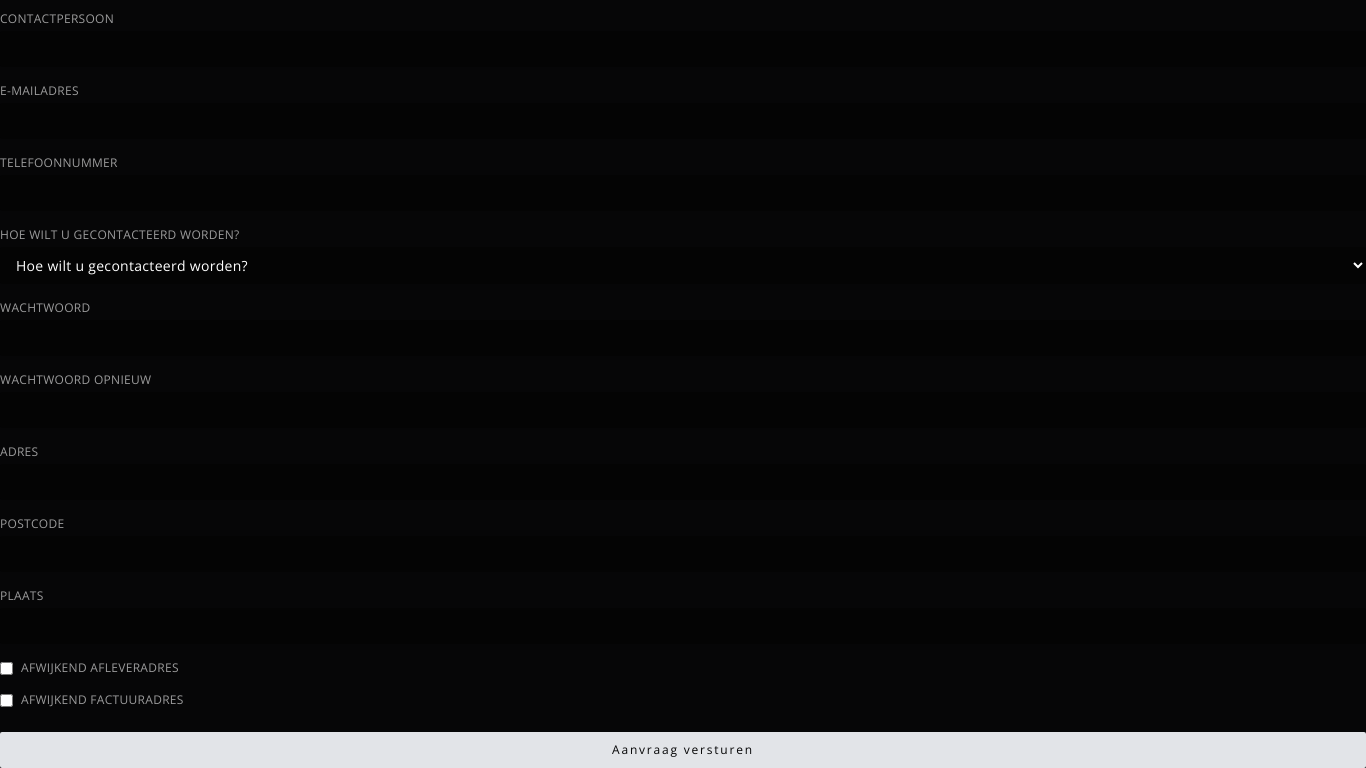
Test: RegistrationForm › shows the 3 delivery-address fields only when the "different delivery address" checkbox is checked
This screenshot has width=1366, height=768.
(page scrolled)
Click the checkbox with test id "word-klant-different-delivery" at (6, 668), box [0,662,13,674]
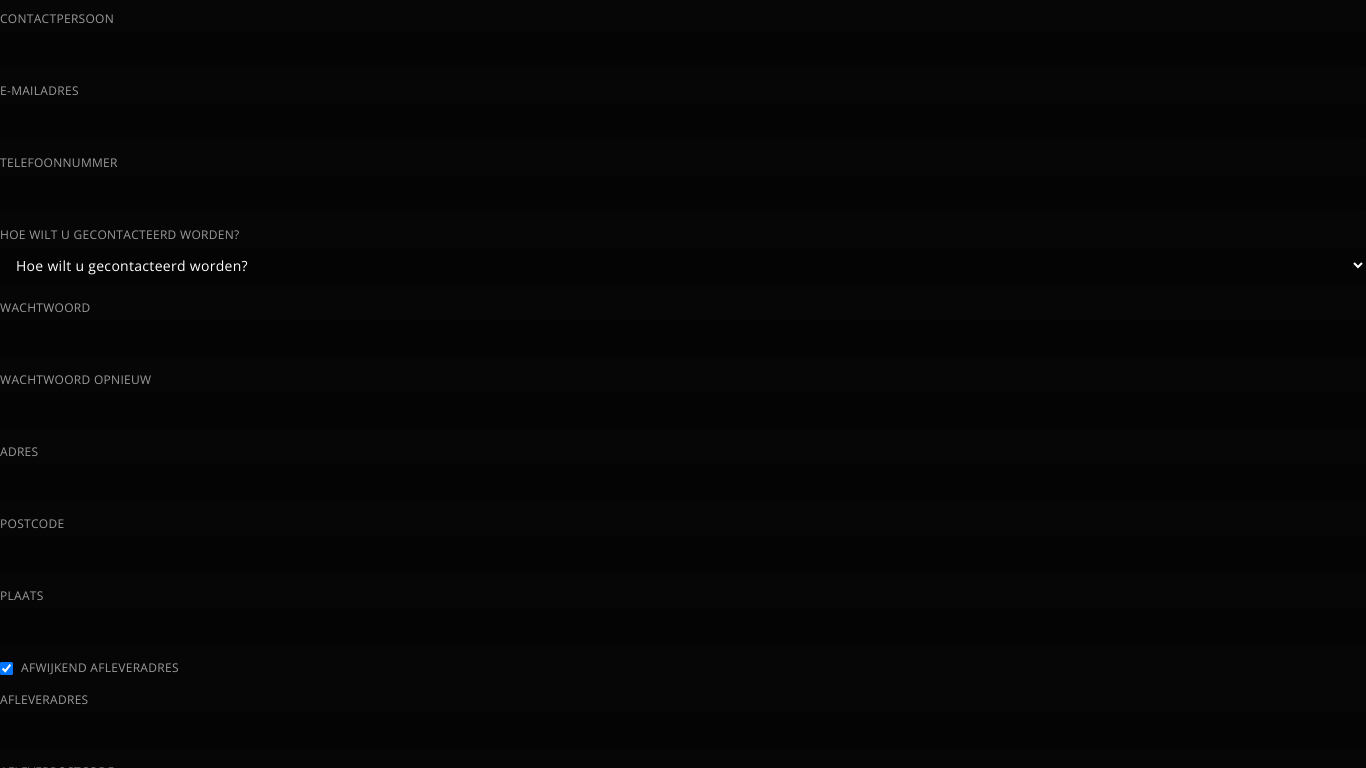
Click the checkbox with test id "word-klant-different-delivery" at (6, 668), box [0,662,13,674]
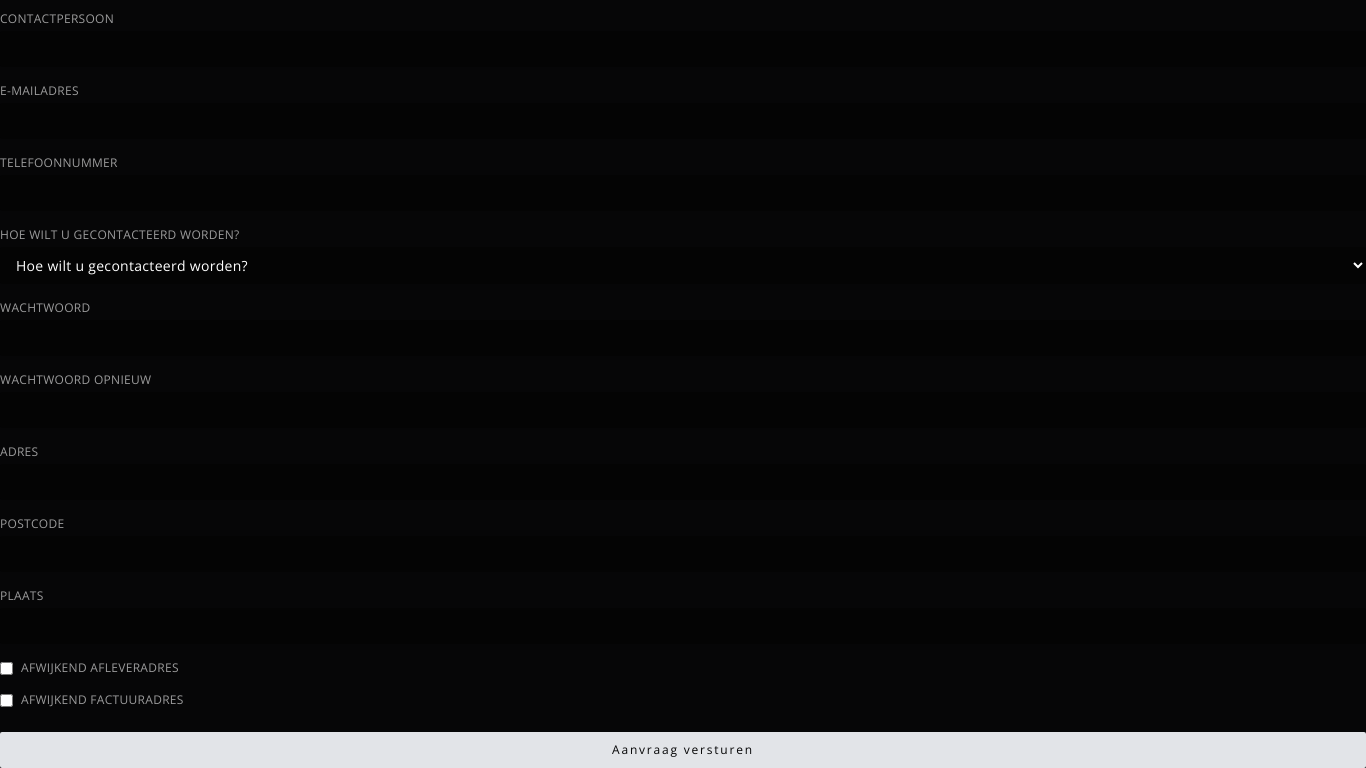
expect the field with test id "word-klant-delivery-address" is gone: met
